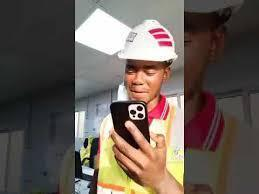helmet: (117, 19, 178, 62)
